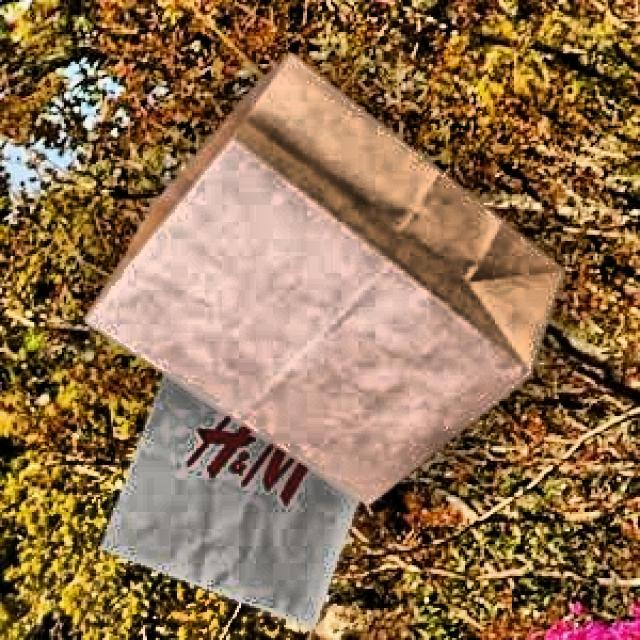Paper-bag: (79, 48, 571, 515), (91, 260, 411, 624)
